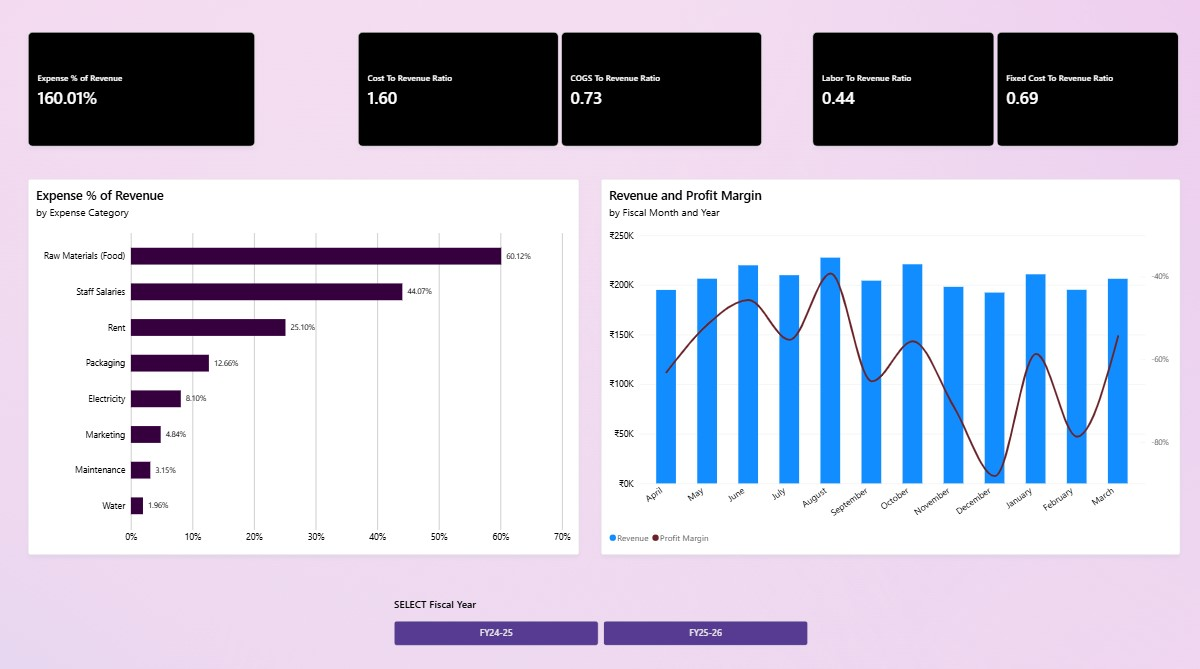

Layout of this report page (visuals, bound fields, positions):
{"tool":"powerbi","page":{"name":"Profitability Drivers","canvas":[1920,1080],"ordinal":3},"visuals":[{"type":"cardVisual","fields":{"Data":["Key Measures Table.Cost To Revenue Ratio","Key Measures Table.COGS_To_Revenue_Ratio"]},"box":[572.1,56.3,642.4,182.9],"z":0},{"type":"clusteredBarChart","fields":{"Category":["Expenses.Expense_Category"],"Y":["Key Measures Table.Expense % of Revenue"]},"box":[46.9,290.7,876.8,597.8],"z":1000},{"type":"cardVisual","fields":{"Data":["Key Measures Table.Expense % of Revenue"]},"box":[46.9,56.3,361.1,182.9],"z":2000},{"type":"lineClusteredColumnComboChart","fields":{"Category":["DimDate.Year","DimDate.FiscalMonthName"],"Y":["Key Measures Table.Revenue"],"Y2":["Key Measures Table.Profit Margin"]},"box":[958.9,290.7,921.4,597.8],"z":3000},{"type":"cardVisual","fields":{"Data":["Key Measures Table.Labor To Revenue Ratio","Key Measures Table.Fixed Cost To Revenue Ratio"]},"box":[1296.5,56.3,583.8,182.9],"z":4000},{"type":"advancedSlicerVisual","fields":{"Values":["DimDate.FiscalYear"]},"box":[629.9,935.3,658.5,97.8],"z":5000}]}

Visuals, with their boxes in screenshot pixels (x1, y1, x2, y2), scaled from the page's 1920x1080 canvas onto the 1200x669 screenshot:
cardVisual - Key Measures Table.Cost To Revenue Ratio x Key Measures Table.COGS_To_Revenue_Ratio: x1=358, y1=35, x2=759, y2=148
clusteredBarChart - Expenses.Expense_Category x Key Measures Table.Expense % of Revenue: x1=29, y1=180, x2=577, y2=550
cardVisual - Key Measures Table.Expense % of Revenue: x1=29, y1=35, x2=255, y2=148
lineClusteredColumnComboChart - DimDate.Year x DimDate.FiscalMonthName: x1=599, y1=180, x2=1175, y2=550
cardVisual - Key Measures Table.Labor To Revenue Ratio x Key Measures Table.Fixed Cost To Revenue Ratio: x1=810, y1=35, x2=1175, y2=148
advancedSlicerVisual - DimDate.FiscalYear: x1=394, y1=579, x2=805, y2=640
